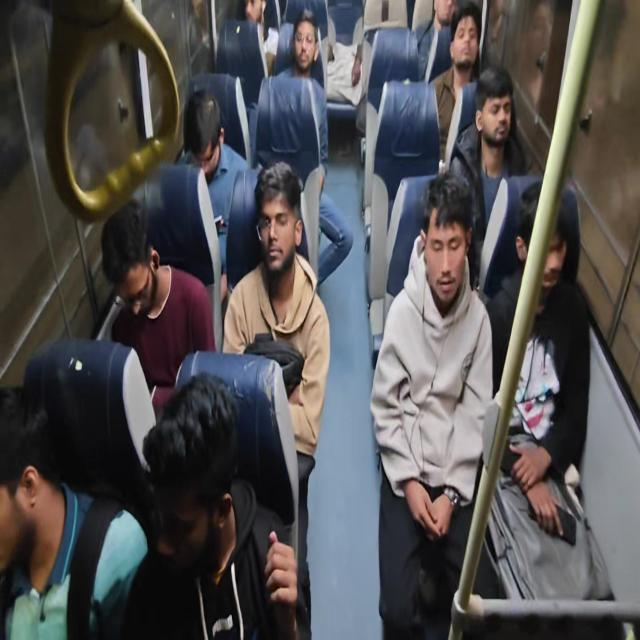person: (139, 380, 244, 580), (0, 384, 49, 594), (99, 199, 172, 328), (416, 174, 476, 313), (511, 181, 580, 297), (249, 158, 305, 283), (182, 80, 229, 185), (474, 65, 516, 157), (285, 9, 328, 79), (445, 12, 484, 81), (233, 0, 269, 30), (431, 0, 462, 28)
